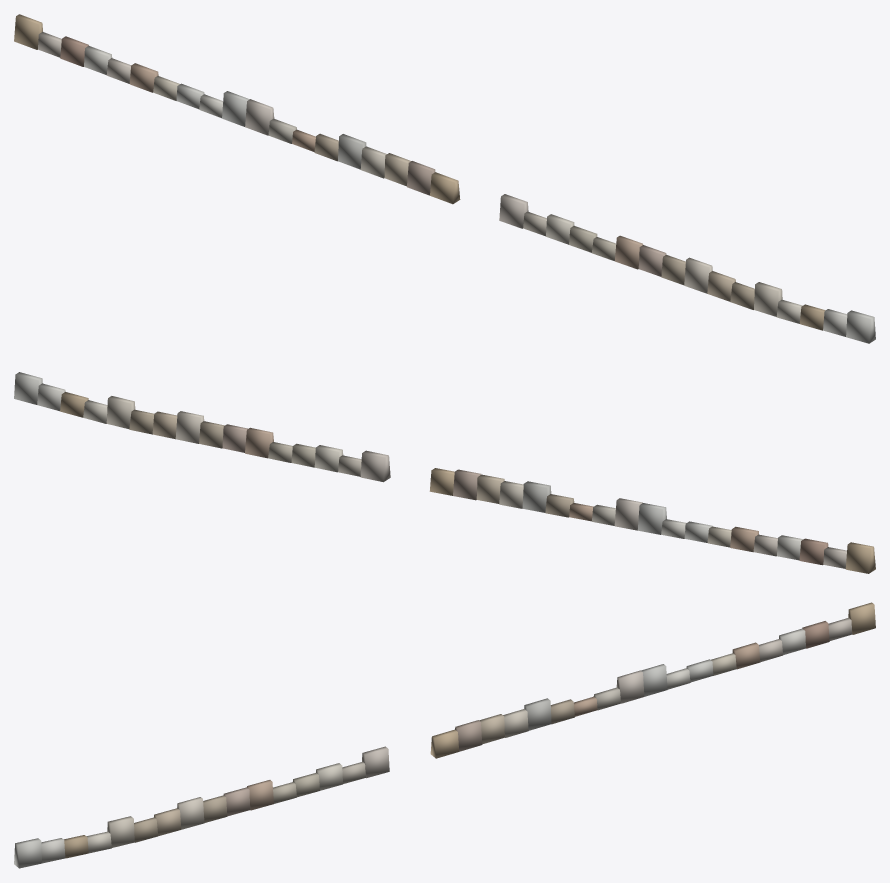
The model's file is farm_18_8_collision.glb.
3 views of the same model, one above another, from view 1: azimuth 30°, elevation 25°; view 2: azimuth 210°, elevation 25°; view 3: azimuth 270°, elevation 25° (orthographic). The views are drawn at different scales.
Parts seen in each view (by area): view 1: geometry_0; view 2: geometry_0; view 3: geometry_0.
Boxes of the visible parts, box(x1,y1,x2,y2) form: geometry_0: box(14, 14, 875, 343); geometry_0: box(14, 372, 875, 573); geometry_0: box(14, 602, 875, 868).
Bounding box in the file's own units: 26.62 × 5.49 × 52.3.
